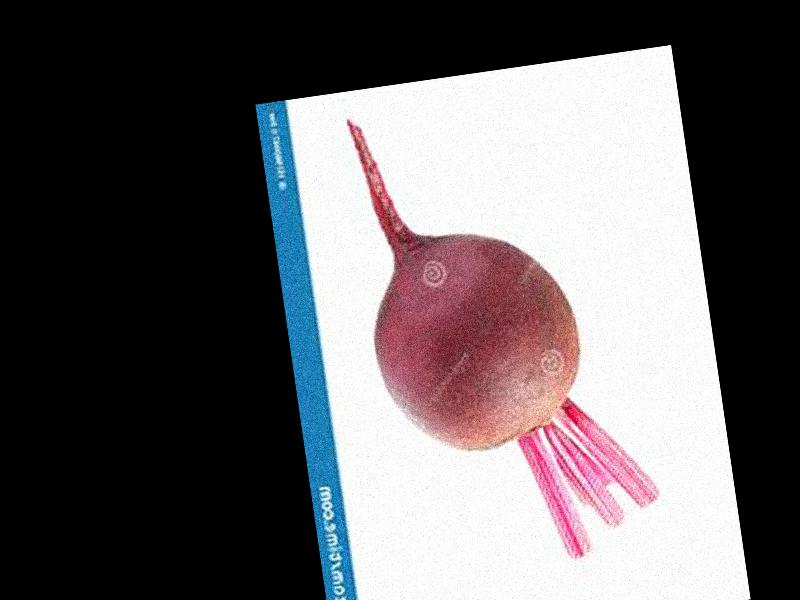Beet: (346, 87, 663, 579)
